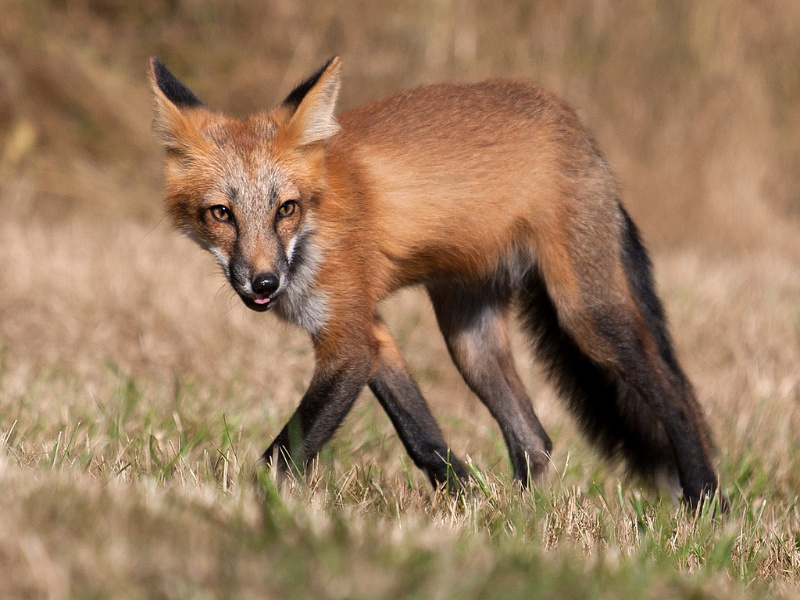fox: (139, 51, 736, 533)
